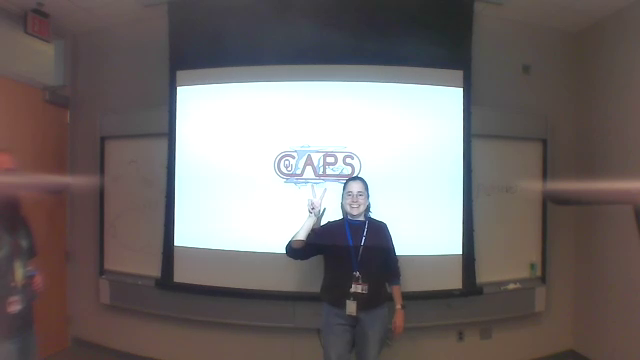peace: (301, 179, 328, 221)
